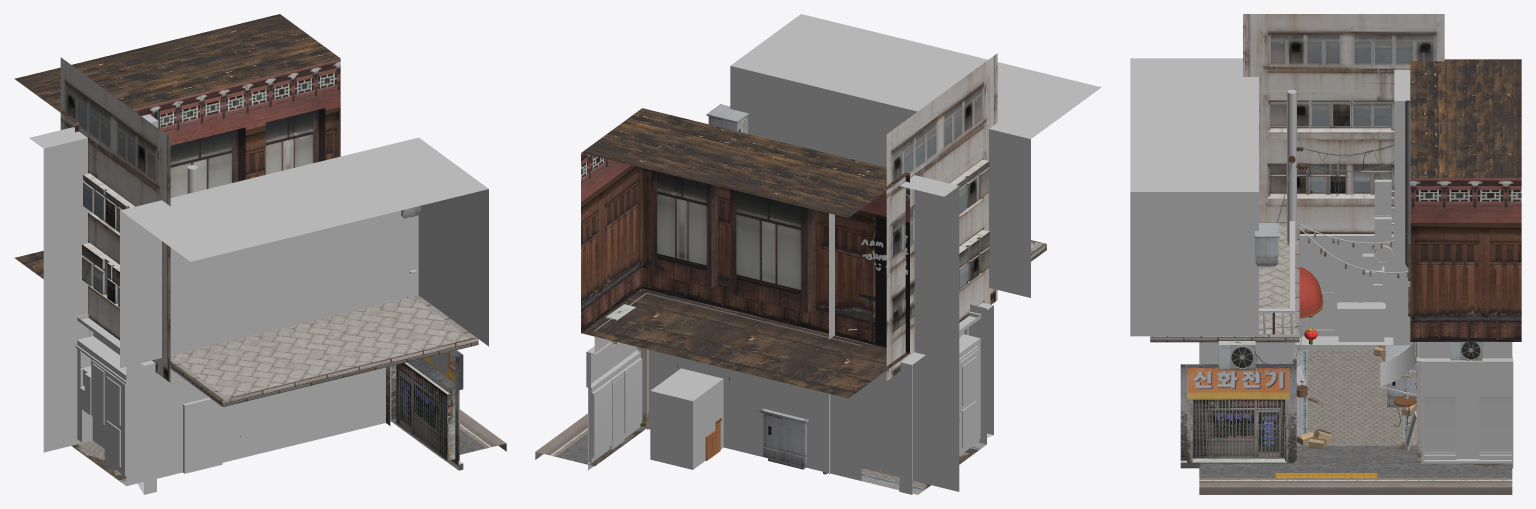
The model's file is Backalley.fbx.
The picture shows the model from 3 angles, left to right: view 1: azimuth 30°, elevation 25°; view 2: azimuth 150°, elevation 25°; view 3: azimuth 270°, elevation 25°; orthographic projection. The views are drawn at different scales.
Visible parts, largest first — view 1: HouseTopLeft, Restaurant, ShopMidLeft, Balcony, ShopTop, CornerHouse, ShopMid, ShopLeft, Floor, Pillar1; view 2: Restaurant, HouseTopLeft, CornerHouse, ShopTop, ShopMidRight, ShopMid, ShopRight, Floor, FanRight, ShopMidLeft, FanLeft, Pillar2; view 3: HouseTopLeft, Restaurant, ShopTop, Floor, ShopLeft, ShopRight, ShopMid, Balcony, CornerHouse, WoodPole, ShopMidLeft, AirConLeft (+12 smaller).
Boxes of the visible parts, left/top/right/bottom form: HouseTopLeft: left=120, top=137, right=488, bottom=367; Restaurant: left=14, top=14, right=340, bottom=278; ShopMidLeft: left=126, top=352, right=447, bottom=486; Balcony: left=170, top=295, right=478, bottom=406; ShopTop: left=60, top=57, right=170, bottom=382; CornerHouse: left=29, top=114, right=158, bottom=452; ShopMid: left=75, top=314, right=156, bottom=494; ShopLeft: left=396, top=350, right=463, bottom=470; Floor: left=72, top=409, right=506, bottom=485; Pillar1: left=386, top=365, right=396, bottom=425; Restaurant: left=581, top=108, right=909, bottom=398; HouseTopLeft: left=730, top=14, right=1101, bottom=297; CornerHouse: left=829, top=175, right=959, bottom=491; ShopTop: left=886, top=53, right=997, bottom=380; ShopMidRight: left=594, top=292, right=861, bottom=480; ShopMid: left=899, top=302, right=993, bottom=494; ShopRight: left=586, top=345, right=642, bottom=470; Floor: left=535, top=413, right=986, bottom=494; FanRight: left=759, top=408, right=808, bottom=469; ShopMidLeft: left=968, top=304, right=986, bottom=444; FanLeft: left=706, top=104, right=749, bottom=133; Pillar2: left=591, top=341, right=648, bottom=429; HouseTopLeft: left=1130, top=58, right=1258, bottom=336; Restaurant: left=1408, top=59, right=1521, bottom=341; ShopTop: left=1243, top=14, right=1444, bottom=233; Floor: left=1199, top=348, right=1512, bottom=494; ShopLeft: left=1180, top=364, right=1293, bottom=468; ShopRight: left=1420, top=359, right=1513, bottom=468; ShopMid: left=1293, top=230, right=1394, bottom=350; Balcony: left=1150, top=222, right=1299, bottom=342; CornerHouse: left=1394, top=69, right=1413, bottom=344; WoodPole: left=1286, top=89, right=1297, bottom=245; ShopMidLeft: left=1199, top=342, right=1293, bottom=364; AirConLeft: left=1218, top=341, right=1255, bottom=370.
Size of the model in its own units: 1205 by 1204 by 1251.
